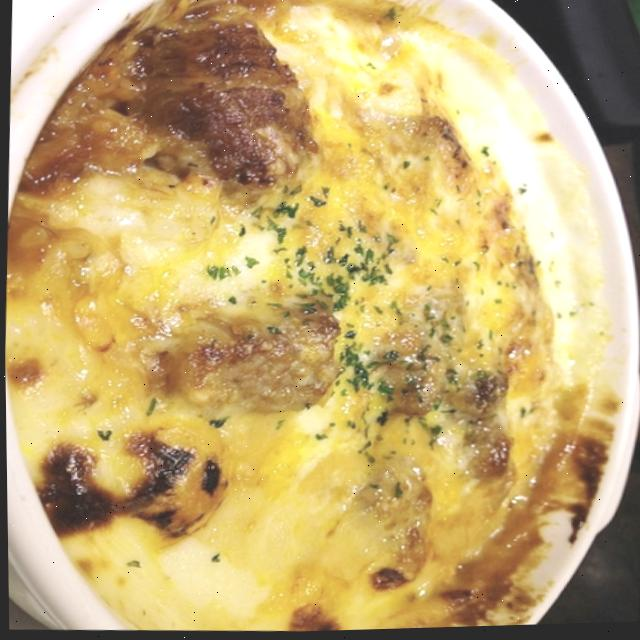米饭主食: (4, 0, 619, 640)
